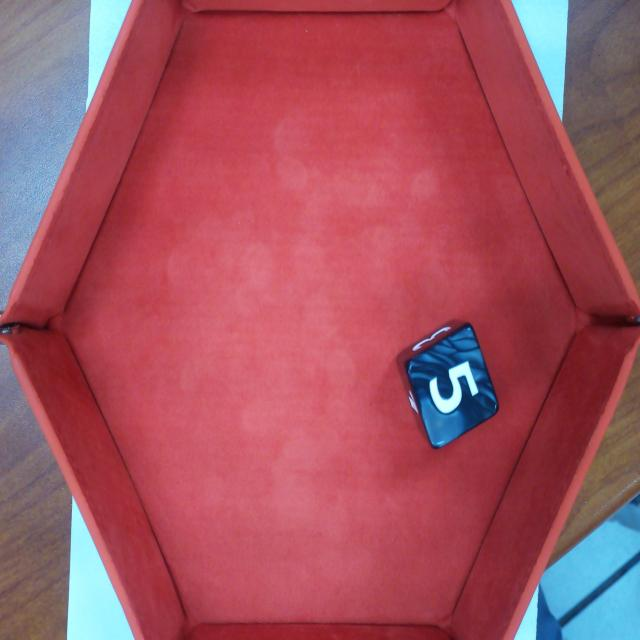dice: (402, 319, 503, 455)
